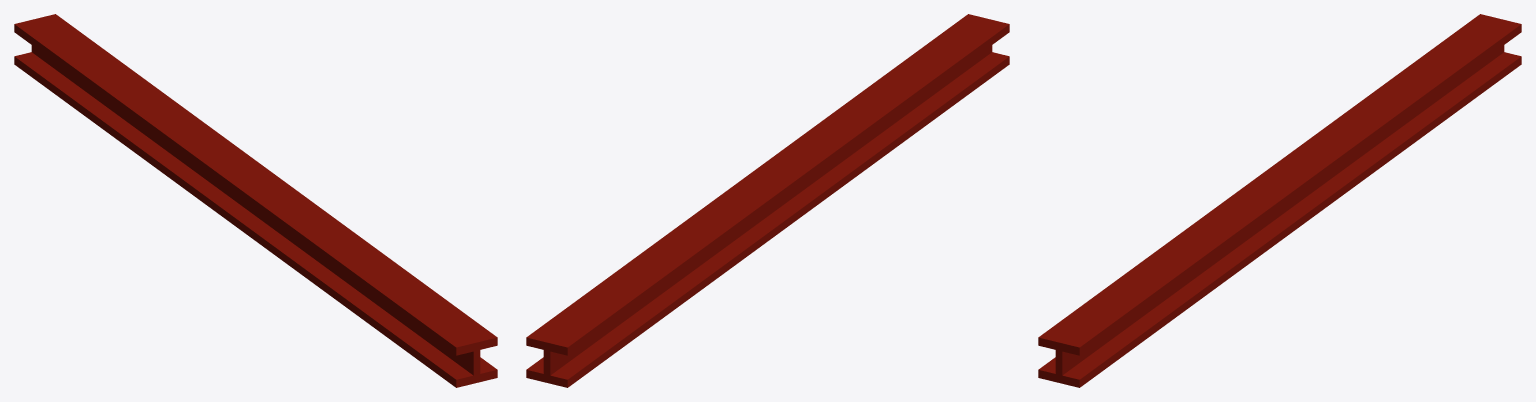
File: I-beam.gltf
3 views of the same model, side by side, from view 1: azimuth 30°, elevation 25°; view 2: azimuth 150°, elevation 25°; view 3: azimuth 330°, elevation 25° (orthographic).
Visible parts, largest first — view 1: I-beam; view 2: I-beam; view 3: I-beam.
Boxes of the visible parts, x1,y1,x2,y2 form: I-beam: (14, 14, 497, 387); I-beam: (526, 14, 1009, 387); I-beam: (1038, 14, 1521, 387).
Size of the model in its own units: 0.7003 by 0.6539 by 12.97.
